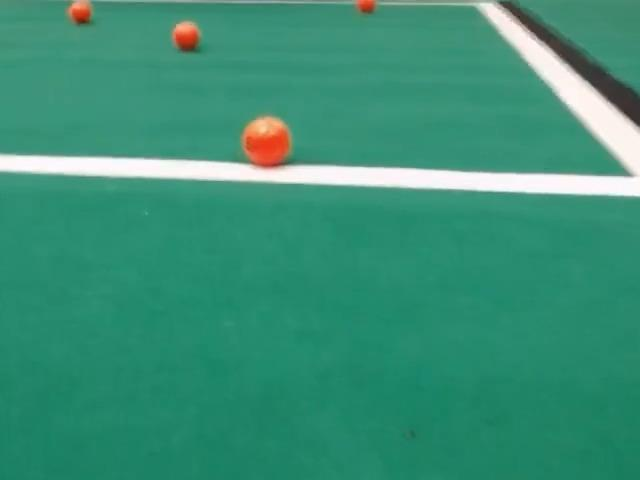Ball: (242, 116, 291, 166), (172, 21, 200, 51), (68, 0, 92, 24)
